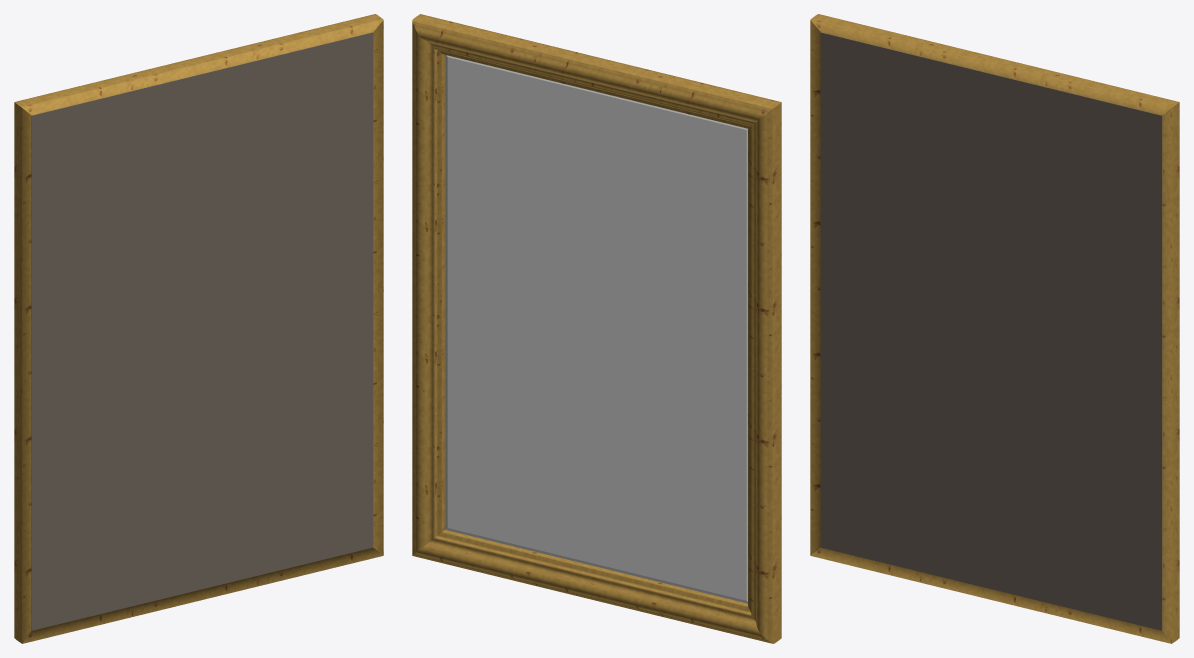
Rendered from wall_mirror_moulded.glb.
3 views of the same model, side by side, from view 1: azimuth 30°, elevation 25°; view 2: azimuth 150°, elevation 25°; view 3: azimuth 330°, elevation 25° (orthographic).
Visible parts, largest first — view 1: wall_mirror_moulded; view 2: wall_mirror_moulded; view 3: wall_mirror_moulded.
Boxes of the visible parts, x1,y1,x2,y2 form: wall_mirror_moulded: (14, 14, 383, 643); wall_mirror_moulded: (412, 14, 781, 643); wall_mirror_moulded: (810, 14, 1179, 643).
Size of the model in its own units: 0.7204 by 1.02 by 0.0391.
Materials: 3 (1 with a texture image).
